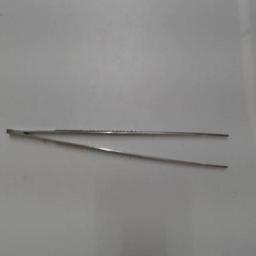DeBakey Dissector: (3, 123, 233, 183)
